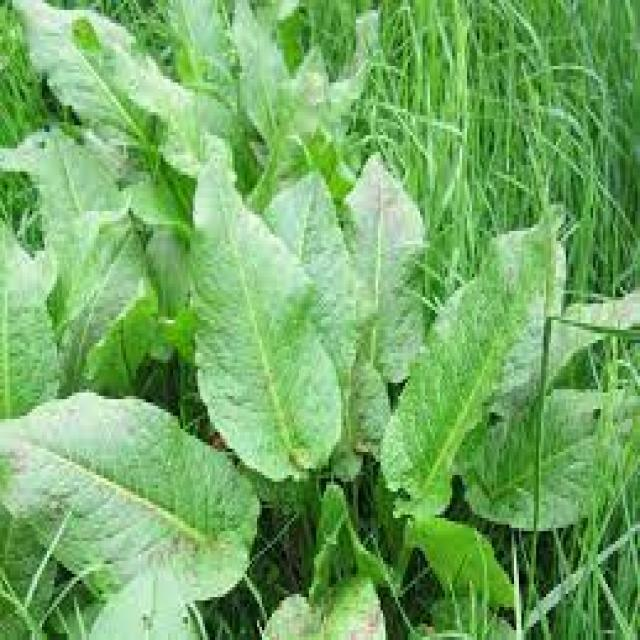organic waste: (7, 194, 639, 640), (0, 0, 383, 422)
